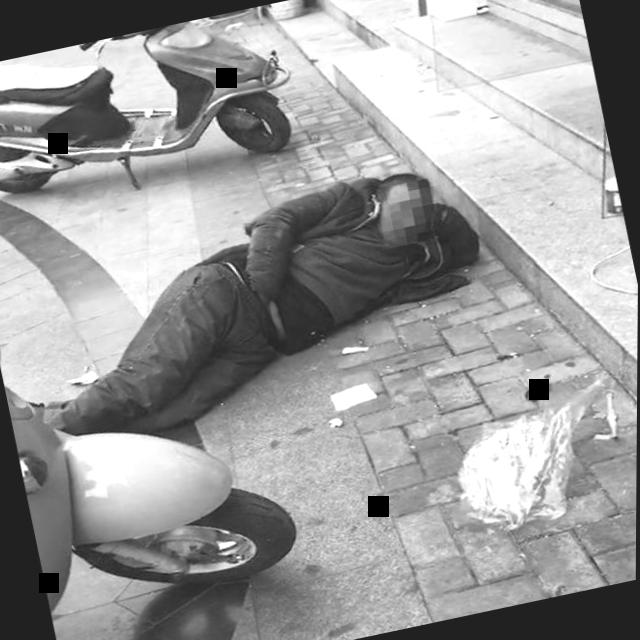Fall-Detected: (17, 137, 486, 464)
